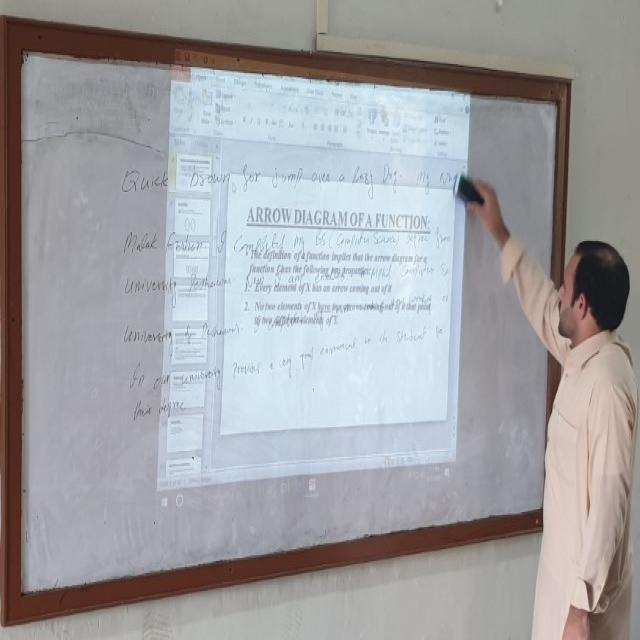Instructor: (526, 207, 634, 640)
Slide: (152, 48, 471, 520)
White-board: (9, 37, 568, 619)
